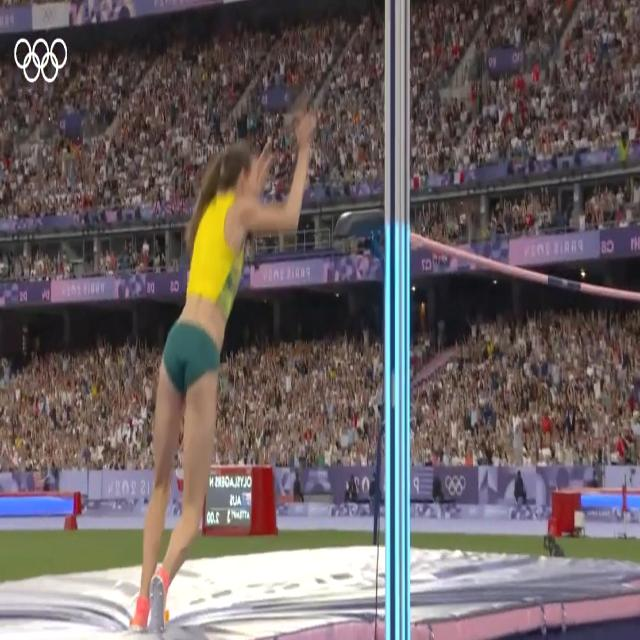land: (132, 150, 312, 632)
